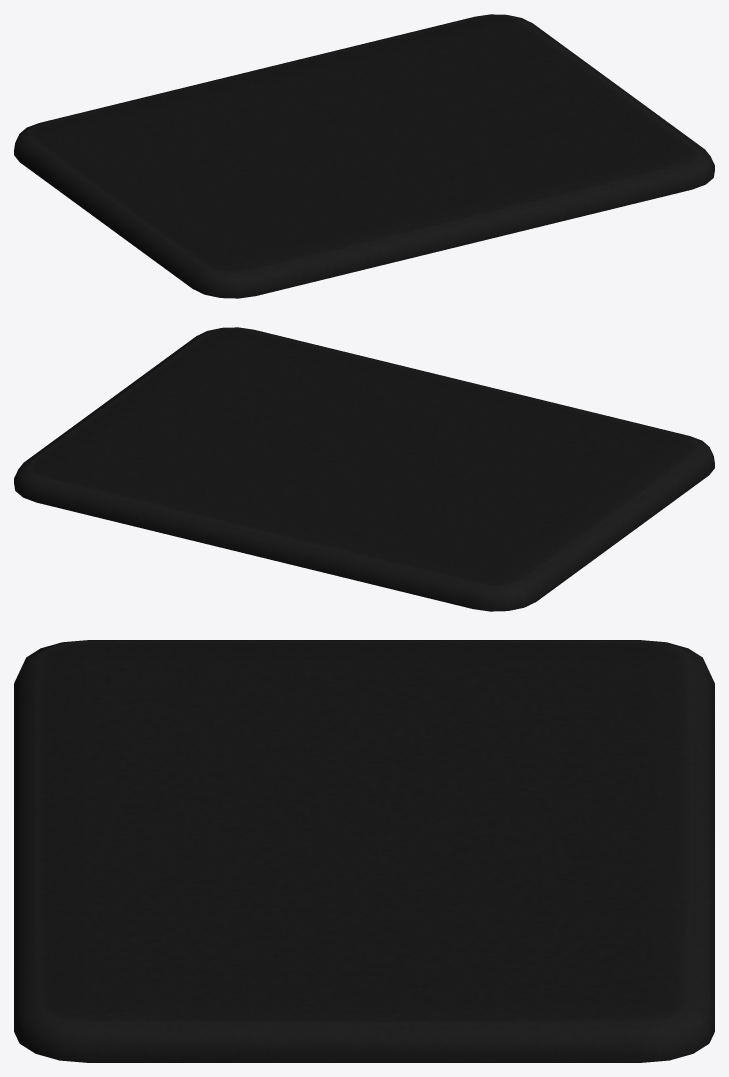
File: MousePad.fbx
The picture shows the model from 3 angles, top to bottom: view 1: azimuth 30°, elevation 25°; view 2: azimuth 150°, elevation 25°; view 3: azimuth 270°, elevation 25°; orthographic projection. The views are drawn at different scales.
Parts seen in each view (by area): view 1: Mousepad; view 2: Mousepad; view 3: Mousepad.
Part boxes in pixels (x1,y1,x2,y2): Mousepad: (14, 14, 714, 298); Mousepad: (14, 327, 714, 611); Mousepad: (14, 640, 714, 1062).
Size of the model in its own units: 18.99 by 0.8705 by 25.84.
